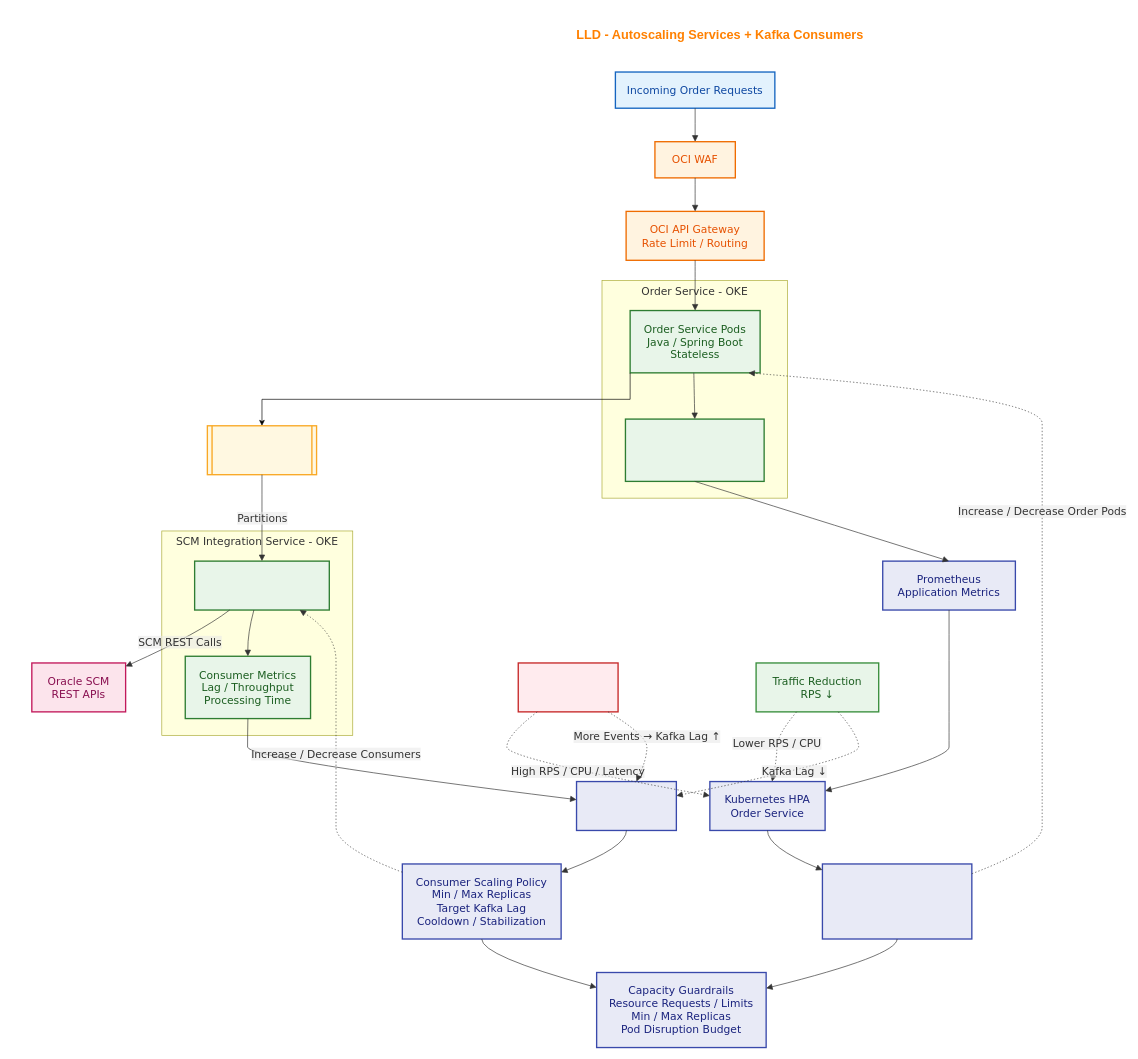
This 1138x1059 diagram has some shape labels left out. Here are the shapes that lost their labels. From the top down, the centre of each, then its label:
At [261,450]: "Kafka Order Topic Multiple Partitions".
At [694,450]: "Order Metrics RPS / CPU / Latency Concurrency".
At [262,585]: "SCM Consumer Pods Java / Spring Boot".
At [567,687]: "Traffic Spike RPS ↑".
At [626,806]: "KEDA Kafka Scaler".
At [896,901]: "Scaling Policy Min / Max Replicas Scale-Up / Scale-Down Stabilization Window".
